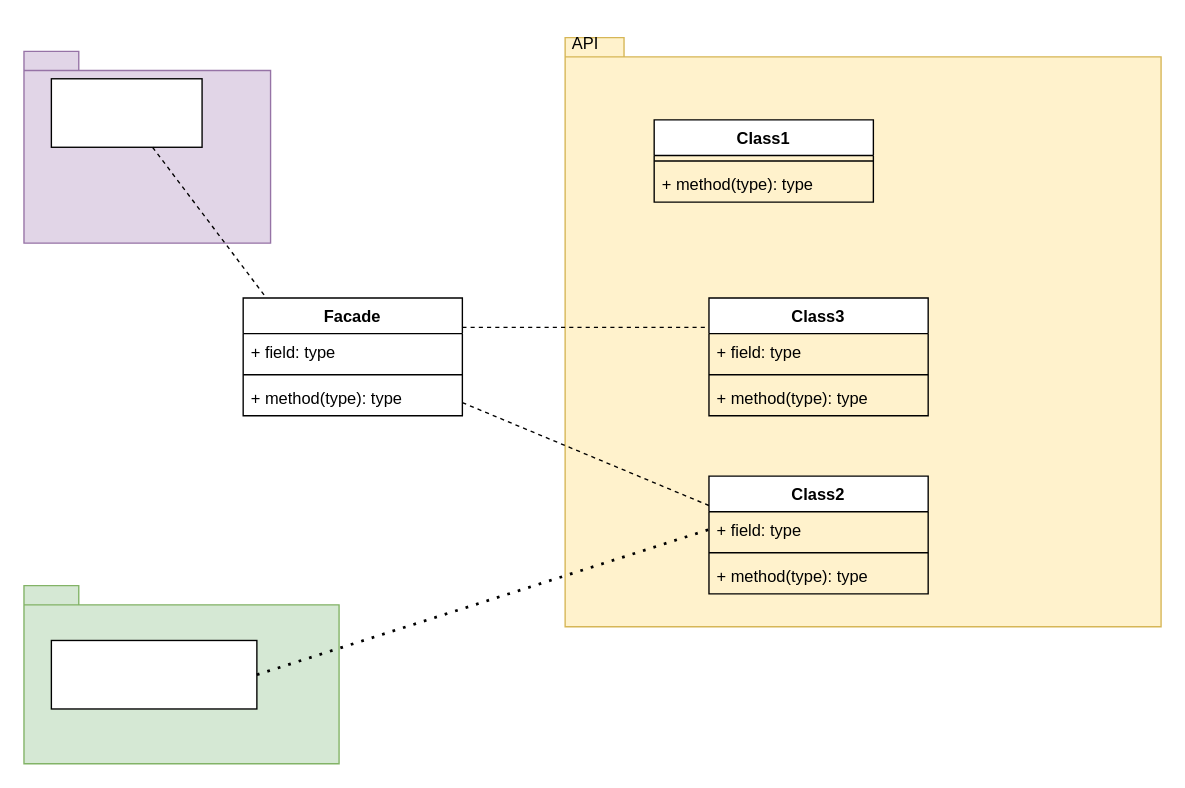
This 1185x788 diagram has some shape labels left out. The shapes that lost their labels are listed below. From the top down, each one's centre as x and y in pixels, then its label:
At point (126, 112): "Client".
At point (153, 674): "Client2".
